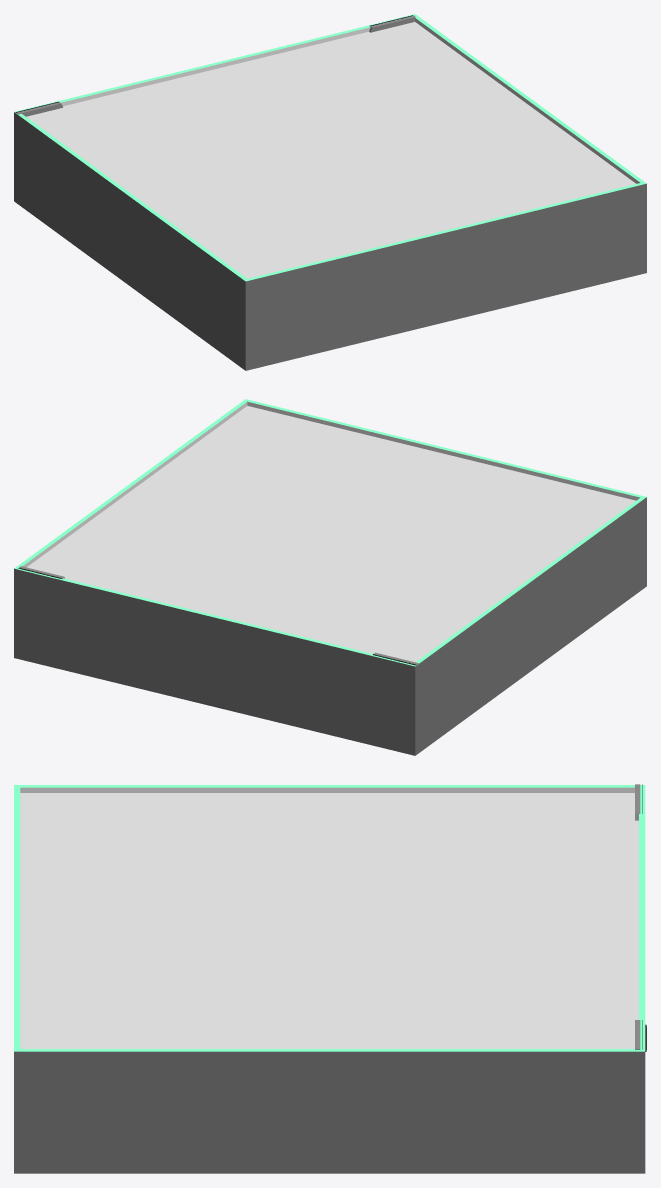
The model's file is Environment 1.FBX.
3 renders of one model, top to bottom at view 1: azimuth 30°, elevation 25°; view 2: azimuth 150°, elevation 25°; view 3: azimuth 270°, elevation 25°, orthographic. The views are drawn at different scales.
Parts seen in each view (by area): view 1: Roof, Box001, Line001; view 2: Roof, Box001; view 3: Roof, Box001.
Part boxes in pixels (box(x1,y1,x2,y2)): Roof: box(26, 18, 640, 278); Box001: box(14, 14, 646, 370); Line001: box(16, 15, 415, 116); Roof: box(22, 401, 639, 662); Box001: box(14, 399, 646, 755); Roof: box(20, 787, 638, 1048); Box001: box(14, 785, 645, 1173).
Bounding box in the file's own units: 3000 × 644 × 3007.
